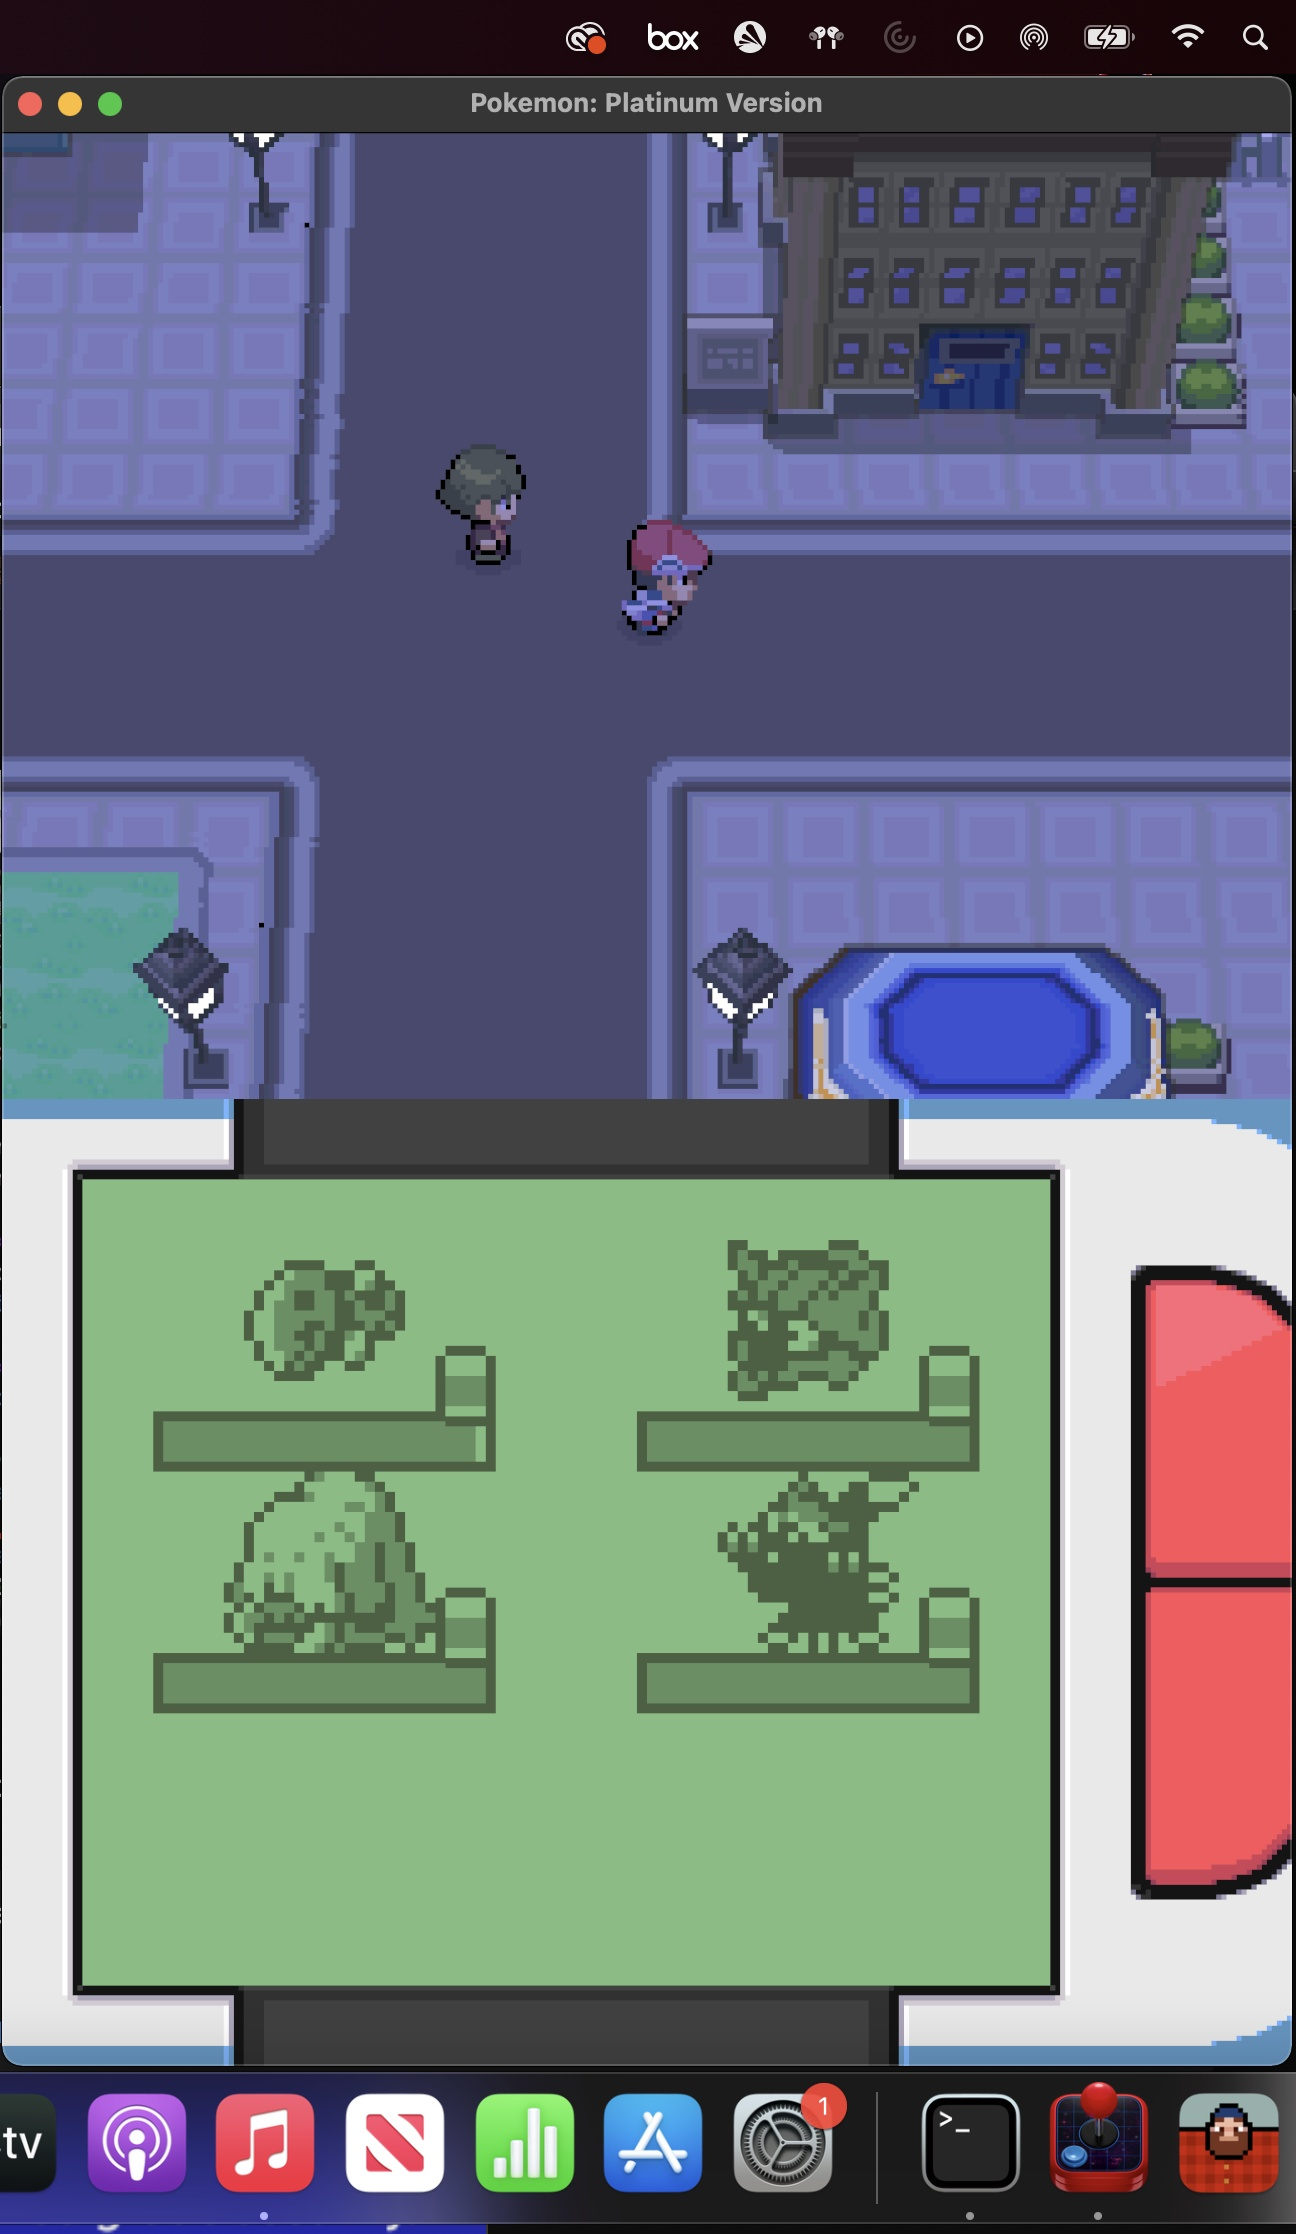player: (603, 504, 711, 654)
